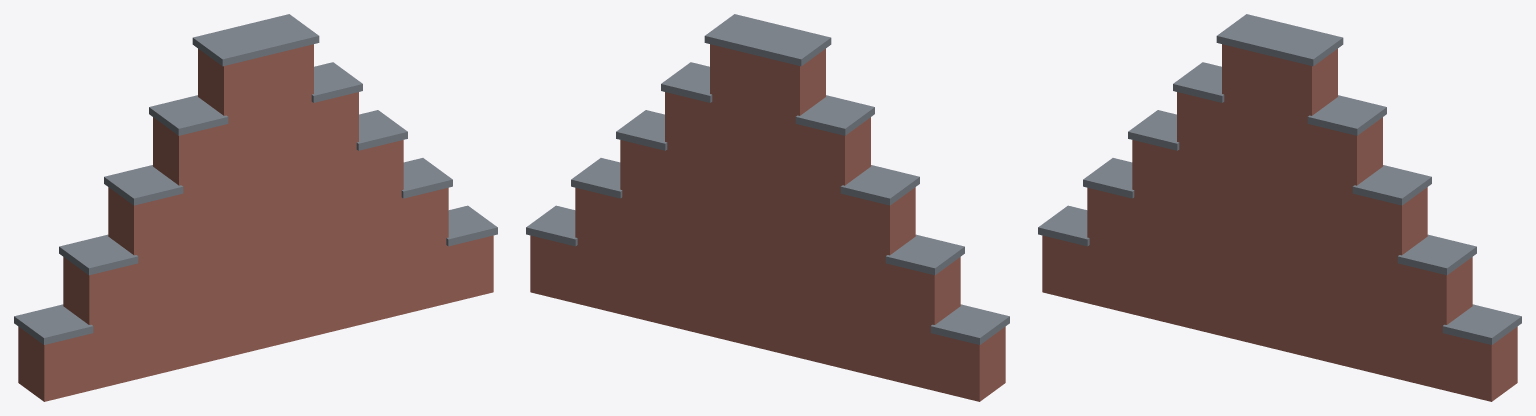
File: arkham_roof_brickgable.glb
3 renders of one model, left to right at view 1: azimuth 30°, elevation 25°; view 2: azimuth 150°, elevation 25°; view 3: azimuth 330°, elevation 25°, orthographic.
Parts seen in each view (by area): view 1: Arkham_Roof_BrickGable; view 2: Arkham_Roof_BrickGable; view 3: Arkham_Roof_BrickGable.
Part boxes in pixels (left/top/right/bottom): Arkham_Roof_BrickGable: left=14, top=14, right=497, bottom=401; Arkham_Roof_BrickGable: left=526, top=14, right=1009, bottom=401; Arkham_Roof_BrickGable: left=1038, top=14, right=1521, bottom=401.
Size of the model in its own units: 4.04 by 2.56 by 0.46.
